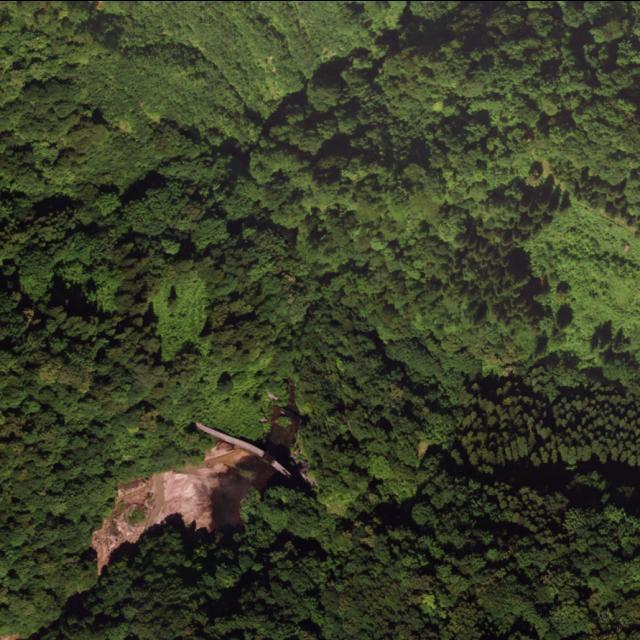landslide: (90, 440, 274, 575)
